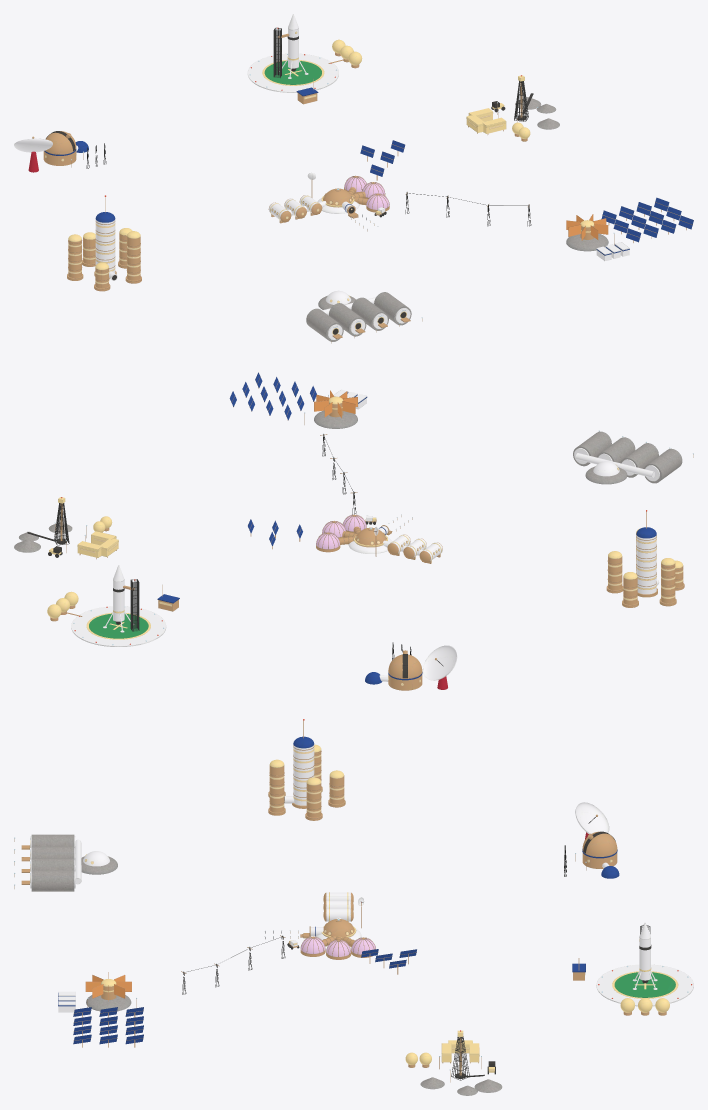
The picture shows the model from 3 angles, top to bottom: view 1: azimuth 30°, elevation 25°; view 2: azimuth 150°, elevation 25°; view 3: azimuth 270°, elevation 25°; orthographic projection. The views are drawn at different scales.
Parts seen in each view (by area): view 1: Base1_RICH_BAKED; view 2: Base1_RICH_BAKED; view 3: Base1_RICH_BAKED.
Part boxes in pixels (x1,y1,x2,y2): Base1_RICH_BAKED: (14,14,693,343); Base1_RICH_BAKED: (14,372,693,690); Base1_RICH_BAKED: (14,719,693,1095).
Size of the model in its own units: 198 by 32.62 by 195.
Materials: 1 (1 with a texture image).
